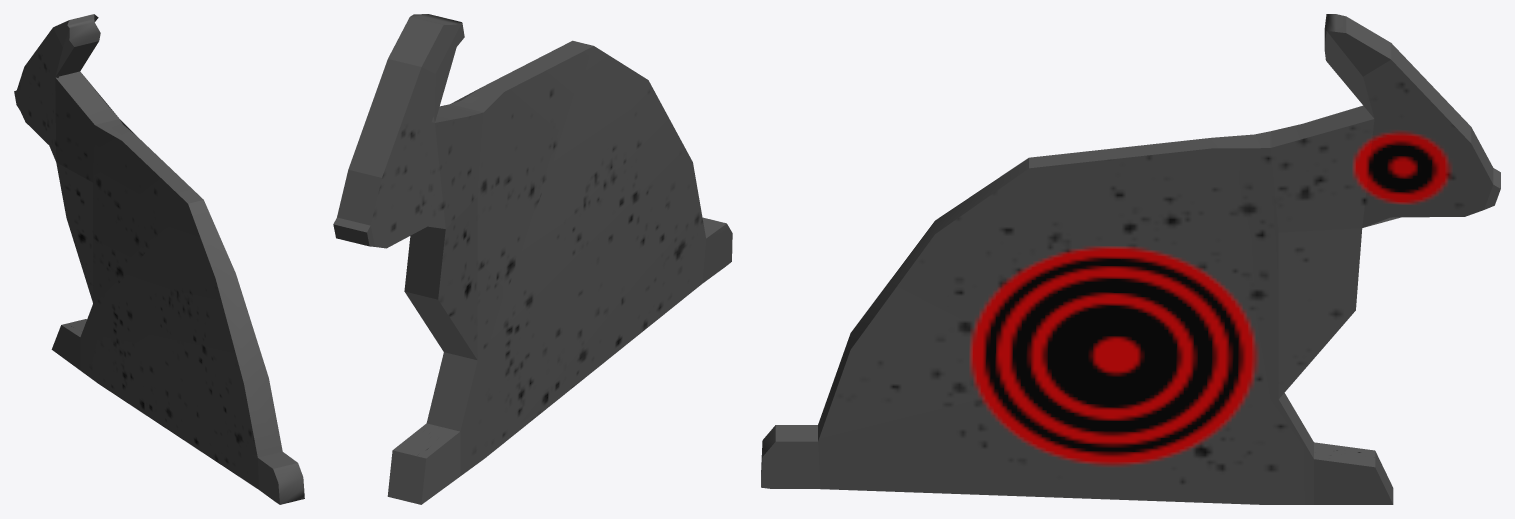
Rendered from Rabit Target.fbx.
The picture shows the model from 3 angles, left to right: view 1: azimuth 30°, elevation 25°; view 2: azimuth 150°, elevation 25°; view 3: azimuth 270°, elevation 25°; orthographic projection. The views are drawn at different scales.
Parts seen in each view (by area): view 1: Rabit; view 2: Rabit; view 3: Rabit.
Part boxes in pixels (x1,y1,x2,y2): Rabit: [14, 14, 304, 504]; Rabit: [333, 14, 732, 504]; Rabit: [761, 14, 1500, 504].
Bounding box in the file's own units: 0.1586 × 1.48 × 2.1.
